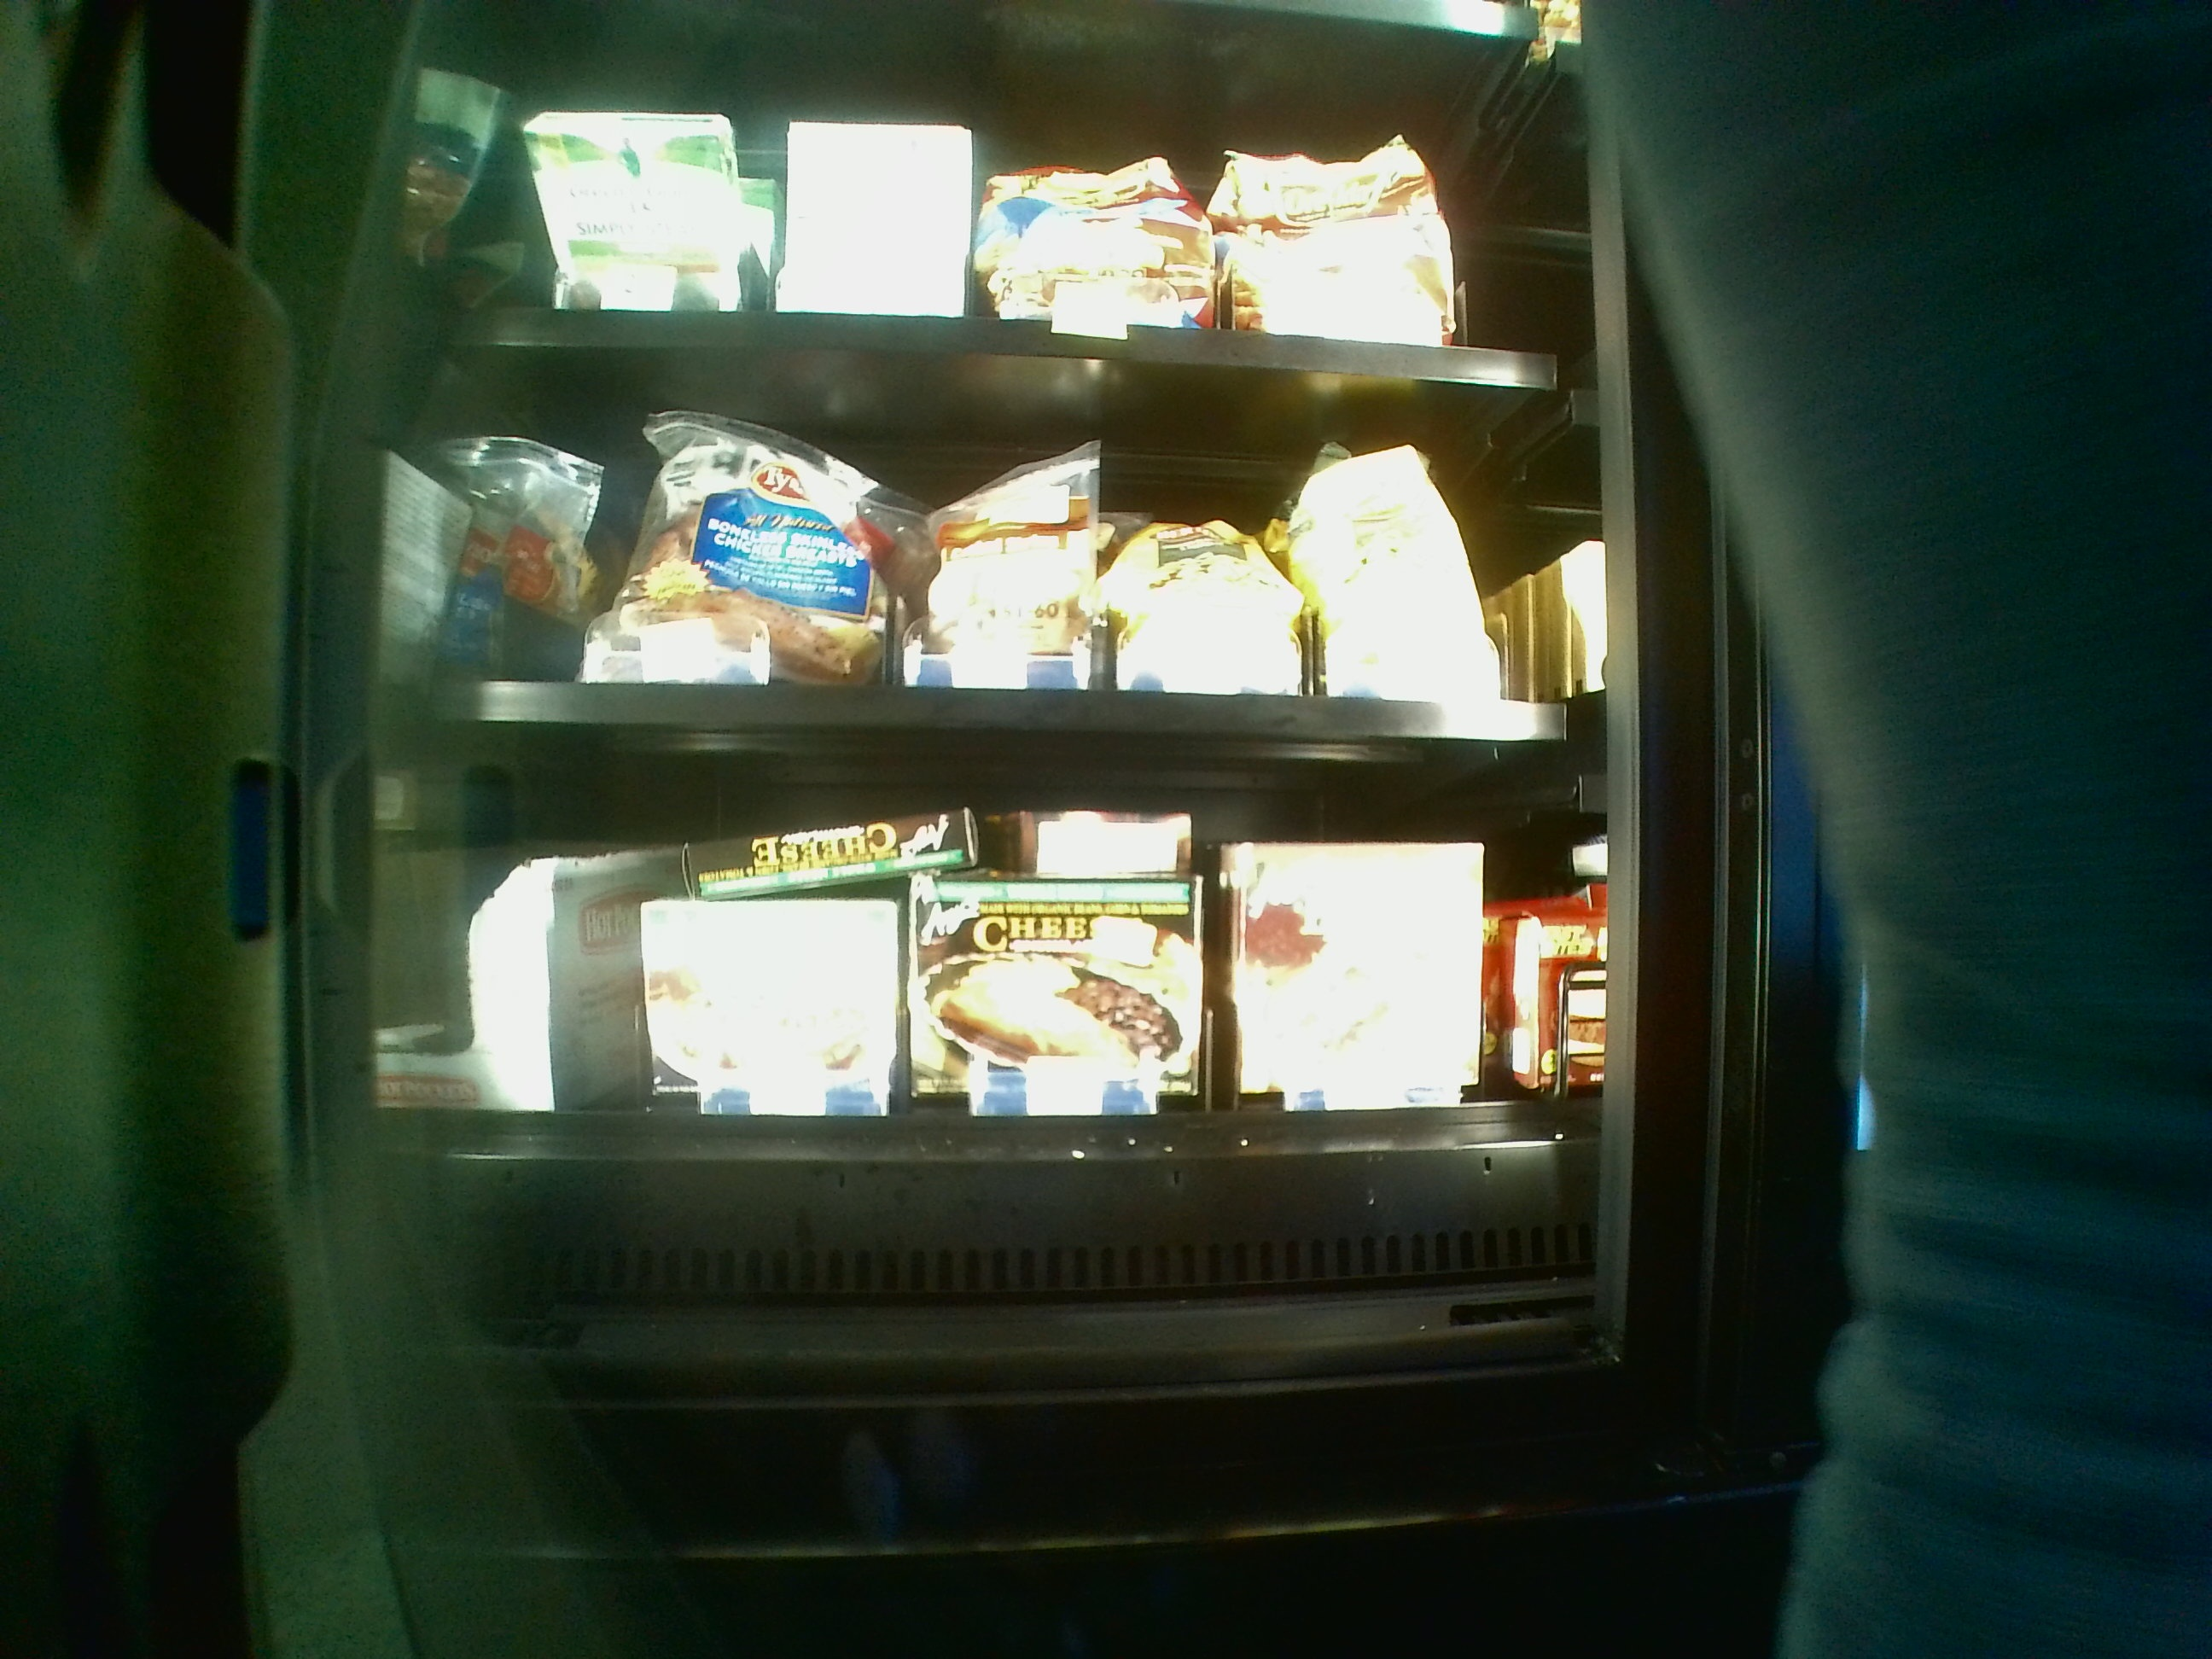shelf: (392, 753, 1604, 1364), (395, 345, 1599, 746)
